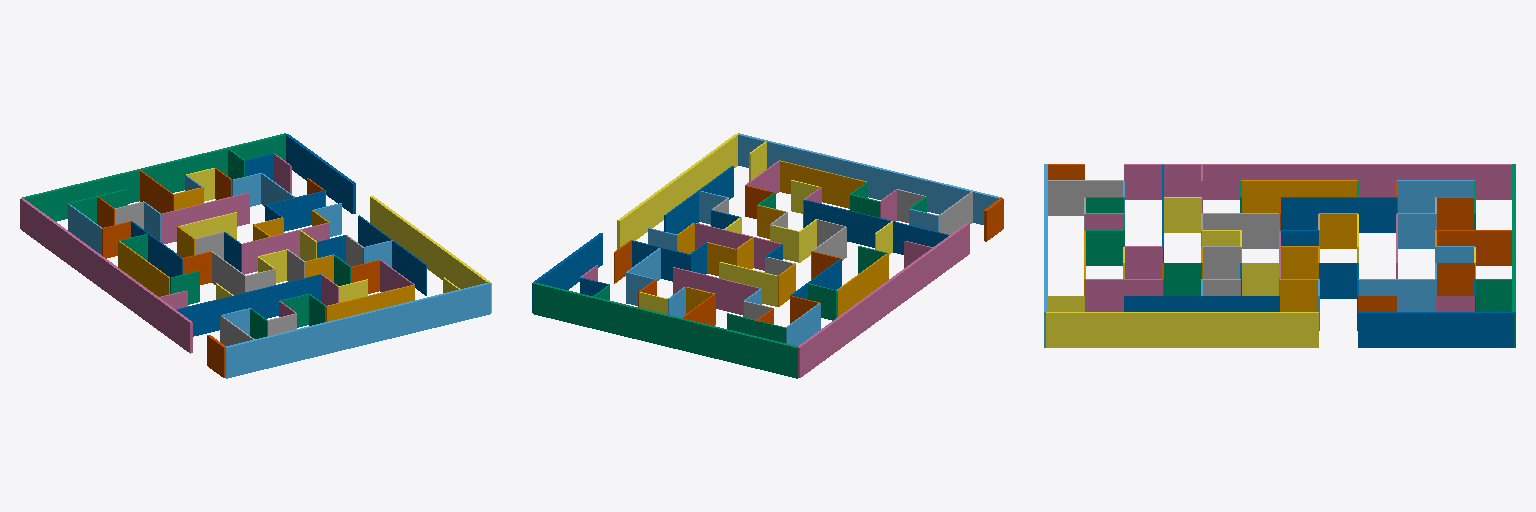
--- Facts derived from the render (not from the file) ---
The picture shows the robot from 3 angles, left to right: view 1: azimuth 30°, elevation 25°; view 2: azimuth 150°, elevation 25°; view 3: azimuth 270°, elevation 25°; orthographic projection.
Model maze2 with 69 links and 68 joints (68 fixed), rooted at maze2_link, posed all joints at 0.
Visible links, largest first — view 1: wallEast_link, wallSouth2_link, wallWest_link, wallNorth1_link, w40_link, wallNorth2_link, w59_link, w50_link, w32_link, w36_link, w4_link, w57_link (+21 smaller); view 2: wallWest_link, wallSouth2_link, wallEast_link, wallNorth1_link, w40_link, w36_link, w59_link, wallNorth2_link, w32_link, w4_link, w50_link, w56_link (+20 smaller); view 3: wallNorth1_link, wallSouth2_link, wallNorth2_link, w8_link, w4_link, w32_link, w11_link, w3_link, w26_link, w29_link, w17_link, w5_link (+26 smaller).
Link boxes in pixels (x1,y1,x2,y2): wallEast_link: (226,282,490,378); wallSouth2_link: (20,198,192,353); wallWest_link: (22,133,285,221); wallNorth1_link: (370,196,491,312); w40_link: (176,274,320,336); wallNorth2_link: (285,134,355,213); w59_link: (161,192,249,243); w50_link: (241,223,329,274); w32_link: (358,215,426,295); w36_link: (326,285,414,321); w4_link: (118,241,169,296); w57_link: (267,190,324,231); wallWest_link: (533,282,797,378); wallSouth2_link: (798,223,969,377); wallEast_link: (738,133,1001,224); wallNorth1_link: (617,134,738,249); w40_link: (804,200,948,254); w36_link: (779,160,866,208); w59_link: (673,267,761,314); wallNorth2_link: (532,233,602,312); w32_link: (664,166,733,233); w4_link: (837,253,888,316); w50_link: (695,223,780,270); w56_link: (719,262,777,306); wallNorth1_link: (1046,312,1318,347); wallSouth2_link: (1124,164,1511,199); wallNorth2_link: (1358,312,1513,347); w8_link: (1280,197,1396,232); w4_link: (1241,180,1357,212); w32_link: (1124,296,1279,311); w11_link: (1202,213,1279,248); w3_link: (1048,180,1123,215); w26_link: (1085,279,1162,311); w29_link: (1358,279,1435,311); w17_link: (1436,230,1513,265); w5_link: (1397,180,1474,212).
Size in the robot's own frame: 9.1 by 12.1 by 1 metres.
Geometry: primitives only (box / cylinder / sphere), no mesh files.

The robot description file, URDF, robot "maze2":
<?xml version="1.0" ?>
<!-- =================================================================================== -->
<!-- |    This document was autogenerated by xacro from /local/dev_hpp/src/iai_maps/build-rel/room/maze2.xacro | -->
<!-- |    EDITING THIS FILE BY HAND IS NOT RECOMMENDED                                 | -->
<!-- =================================================================================== -->
<robot name="maze2" xmlns:controller="http://playerstage.sourceforge.net/gazebo/xmlschema/#controller" xmlns:interface="http://playerstage.sourceforge.net/gazebo/xmlschema/#interface" xmlns:sensor="http://playerstage.sourceforge.net/gazebo/xmlschema/#sensor" xmlns:xacro="http://www.ros.org/wiki/xacro">
  <!-- Little helper macro to define the inertia matrix needed for links. -->
  <!-- Length is along the y-axis. -->
  <!--<macro name="handle" params="name position link clearance">
    <handle name="${name}" clearance="${clearance}">
      <position>${position}</position>
      <link name="${link}" />
    </handle>
  </macro>-->
  <!--  <glasses name="glasses2" parent="room" xyz="-1.1 4.3 0.73" rpy="0 0 0"/>-->
  <link name="maze2_link">
    <!--<sphere_inertia radius="0.001" mass="1"/>-->
  </link>
  <joint name="wallEast_joint" type="fixed">
    <origin rpy="0 0 0" xyz="4.5 0 0.5"/>
    <parent link="maze2_link"/>
    <child link="wallEast_link"/>
  </joint>
  <link name="wallEast_link">
    <visual>
      <origin rpy="0 0 0" xyz="0 0 0"/>
      <geometry>
        <box size="9 0.1 1"/>
      </geometry>
    </visual>
    <collision>
      <origin rpy="0 0 0" xyz="0 0 0"/>
      <geometry>
        <box size="9 0.1 1"/>
      </geometry>
    </collision>
    <inertial>
      <mass value="1000"/>
      <inertia ixx="1.0" ixy="0.0" ixz="0.0" iyy="1.0" iyz="0.0" izz="1.0"/>
    </inertial>
  </link>
  <gazebo reference="wallEast_link">
    <static>true</static>
    <material>Gazebo/White</material>
  </gazebo>
  <joint name="wallWest_joint" type="fixed">
    <origin rpy="0 0 0" xyz="4.5 12 0.5"/>
    <parent link="maze2_link"/>
    <child link="wallWest_link"/>
  </joint>
  <link name="wallWest_link">
    <visual>
      <origin rpy="0 0 0" xyz="0 0 0"/>
      <geometry>
        <box size="9 0.1 1"/>
      </geometry>
    </visual>
    <collision>
      <origin rpy="0 0 0" xyz="0 0 0"/>
      <geometry>
        <box size="9 0.1 1"/>
      </geometry>
    </collision>
    <inertial>
      <mass value="1000"/>
      <inertia ixx="1.0" ixy="0.0" ixz="0.0" iyy="1.0" iyz="0.0" izz="1.0"/>
    </inertial>
  </link>
  <gazebo reference="wallWest_link">
    <static>true</static>
    <material>Gazebo/White</material>
  </gazebo>
  <joint name="wallNorth1_joint" type="fixed">
    <origin rpy="0 0 0" xyz="9 3.5 0.5"/>
    <parent link="maze2_link"/>
    <child link="wallNorth1_link"/>
  </joint>
  <link name="wallNorth1_link">
    <visual>
      <origin rpy="0 0 0" xyz="0 0 0"/>
      <geometry>
        <box size="0.1 7 1"/>
      </geometry>
    </visual>
    <collision>
      <origin rpy="0 0 0" xyz="0 0 0"/>
      <geometry>
        <box size="0.1 7 1"/>
      </geometry>
    </collision>
    <inertial>
      <mass value="1000"/>
      <inertia ixx="1.0" ixy="0.0" ixz="0.0" iyy="1.0" iyz="0.0" izz="1.0"/>
    </inertial>
  </link>
  <gazebo reference="wallNorth1_link">
    <static>true</static>
    <material>Gazebo/White</material>
  </gazebo>
  <joint name="wallNorth2_joint" type="fixed">
    <origin rpy="0 0 0" xyz="9 10 0.5"/>
    <parent link="maze2_link"/>
    <child link="wallNorth2_link"/>
  </joint>
  <link name="wallNorth2_link">
    <visual>
      <origin rpy="0 0 0" xyz="0 0 0"/>
      <geometry>
        <box size="0.1 4 1"/>
      </geometry>
    </visual>
    <collision>
      <origin rpy="0 0 0" xyz="0 0 0"/>
      <geometry>
        <box size="0.1 4 1"/>
      </geometry>
    </collision>
    <inertial>
      <mass value="1000"/>
      <inertia ixx="1.0" ixy="0.0" ixz="0.0" iyy="1.0" iyz="0.0" izz="1.0"/>
    </inertial>
  </link>
  <gazebo reference="wallNorth2_link">
    <static>true</static>
    <material>Gazebo/White</material>
  </gazebo>
  <joint name="wallSouth1_joint" type="fixed">
    <origin rpy="0 0 0" xyz="0 0.5 0.5"/>
    <parent link="maze2_link"/>
    <child link="wallSouth1_link"/>
  </joint>
  <link name="wallSouth1_link">
    <visual>
      <origin rpy="0 0 0" xyz="0 0 0"/>
      <geometry>
        <box size="0.1 1 1"/>
      </geometry>
    </visual>
    <collision>
      <origin rpy="0 0 0" xyz="0 0 0"/>
      <geometry>
        <box size="0.1 1 1"/>
      </geometry>
    </collision>
    <inertial>
      <mass value="1000"/>
      <inertia ixx="1.0" ixy="0.0" ixz="0.0" iyy="1.0" iyz="0.0" izz="1.0"/>
    </inertial>
  </link>
  <gazebo reference="wallSouth1_link">
    <static>true</static>
    <material>Gazebo/White</material>
  </gazebo>
  <joint name="wallSouth2_joint" type="fixed">
    <origin rpy="0 0 0" xyz="0 7 0.5"/>
    <parent link="maze2_link"/>
    <child link="wallSouth2_link"/>
  </joint>
  <link name="wallSouth2_link">
    <visual>
      <origin rpy="0 0 0" xyz="0 0 0"/>
      <geometry>
        <box size="0.1 10 1"/>
      </geometry>
    </visual>
    <collision>
      <origin rpy="0 0 0" xyz="0 0 0"/>
      <geometry>
        <box size="0.1 10 1"/>
      </geometry>
    </collision>
    <inertial>
      <mass value="1000"/>
      <inertia ixx="1.0" ixy="0.0" ixz="0.0" iyy="1.0" iyz="0.0" izz="1.0"/>
    </inertial>
  </link>
  <gazebo reference="wallSouth2_link">
    <static>true</static>
    <material>Gazebo/White</material>
  </gazebo>
  <!-- inside horizontal (south to north, east to west) -->
  <joint name="w3_joint" type="fixed">
    <origin rpy="0 0 0" xyz="1 1 0.5"/>
    <parent link="maze2_link"/>
    <child link="w3_link"/>
  </joint>
  <link name="w3_link">
    <visual>
      <origin rpy="0 0 0" xyz="0 0 0"/>
      <geometry>
        <box size="0.05 2 1"/>
      </geometry>
    </visual>
    <collision>
      <origin rpy="0 0 0" xyz="0 0 0"/>
      <geometry>
        <box size="0.05 2 1"/>
      </geometry>
    </collision>
    <inertial>
      <mass value="1000"/>
      <inertia ixx="1.0" ixy="0.0" ixz="0.0" iyy="1.0" iyz="0.0" izz="1.0"/>
    </inertial>
  </link>
  <gazebo reference="w3_link">
    <static>true</static>
    <material>Gazebo/White</material>
  </gazebo>
  <joint name="w4_joint" type="fixed">
    <origin rpy="0 0 0" xyz="1 6.5 0.5"/>
    <parent link="maze2_link"/>
    <child link="w4_link"/>
  </joint>
  <link name="w4_link">
    <visual>
      <origin rpy="0 0 0" xyz="0 0 0"/>
      <geometry>
        <box size="0.05 3 1"/>
      </geometry>
    </visual>
    <collision>
      <origin rpy="0 0 0" xyz="0 0 0"/>
      <geometry>
        <box size="0.05 3 1"/>
      </geometry>
    </collision>
    <inertial>
      <mass value="1000"/>
      <inertia ixx="1.0" ixy="0.0" ixz="0.0" iyy="1.0" iyz="0.0" izz="1.0"/>
    </inertial>
  </link>
  <gazebo reference="w4_link">
    <static>true</static>
    <material>Gazebo/White</material>
  </gazebo>
  <joint name="w5_joint" type="fixed">
    <origin rpy="0 0 0" xyz="1 10 0.5"/>
    <parent link="maze2_link"/>
    <child link="w5_link"/>
  </joint>
  <link name="w5_link">
    <visual>
      <origin rpy="0 0 0" xyz="0 0 0"/>
      <geometry>
        <box size="0.05 2 1"/>
      </geometry>
    </visual>
    <collision>
      <origin rpy="0 0 0" xyz="0 0 0"/>
      <geometry>
        <box size="0.05 2 1"/>
      </geometry>
    </collision>
    <inertial>
      <mass value="1000"/>
      <inertia ixx="1.0" ixy="0.0" ixz="0.0" iyy="1.0" iyz="0.0" izz="1.0"/>
    </inertial>
  </link>
  <gazebo reference="w5_link">
    <static>true</static>
    <material>Gazebo/White</material>
  </gazebo>
  <joint name="w6_joint" type="fixed">
    <origin rpy="0 0 0" xyz="2 1.5 0.5"/>
    <parent link="maze2_link"/>
    <child link="w6_link"/>
  </joint>
  <link name="w6_link">
    <visual>
      <origin rpy="0 0 0" xyz="0 0 0"/>
      <geometry>
        <box size="0.05 1 1"/>
      </geometry>
    </visual>
    <collision>
      <origin rpy="0 0 0" xyz="0 0 0"/>
      <geometry>
        <box size="0.05 1 1"/>
      </geometry>
    </collision>
    <inertial>
      <mass value="1000"/>
      <inertia ixx="1.0" ixy="0.0" ixz="0.0" iyy="1.0" iyz="0.0" izz="1.0"/>
    </inertial>
  </link>
  <gazebo reference="w6_link">
    <static>true</static>
    <material>Gazebo/White</material>
  </gazebo>
  <joint name="w7_joint" type="fixed">
    <origin rpy="0 0 0" xyz="2 3.5 0.5"/>
    <parent link="maze2_link"/>
    <child link="w7_link"/>
  </joint>
  <link name="w7_link">
    <visual>
      <origin rpy="0 0 0" xyz="0 0 0"/>
      <geometry>
        <box size="0.05 1 1"/>
      </geometry>
    </visual>
    <collision>
      <origin rpy="0 0 0" xyz="0 0 0"/>
      <geometry>
        <box size="0.05 1 1"/>
      </geometry>
    </collision>
    <inertial>
      <mass value="1000"/>
      <inertia ixx="1.0" ixy="0.0" ixz="0.0" iyy="1.0" iyz="0.0" izz="1.0"/>
    </inertial>
  </link>
  <gazebo reference="w7_link">
    <static>true</static>
    <material>Gazebo/White</material>
  </gazebo>
  <joint name="w8_joint" type="fixed">
    <origin rpy="0 0 0" xyz="2 7.5 0.5"/>
    <parent link="maze2_link"/>
    <child link="w8_link"/>
  </joint>
  <link name="w8_link">
    <visual>
      <origin rpy="0 0 0" xyz="0 0 0"/>
      <geometry>
        <box size="0.05 3 1"/>
      </geometry>
    </visual>
    <collision>
      <origin rpy="0 0 0" xyz="0 0 0"/>
      <geometry>
        <box size="0.05 3 1"/>
      </geometry>
    </collision>
    <inertial>
      <mass value="1000"/>
      <inertia ixx="1.0" ixy="0.0" ixz="0.0" iyy="1.0" iyz="0.0" izz="1.0"/>
    </inertial>
  </link>
  <gazebo reference="w8_link">
    <static>true</static>
    <material>Gazebo/White</material>
  </gazebo>
  <joint name="w9_joint" type="fixed">
    <origin rpy="0 0 0" xyz="2 10.5 0.5"/>
    <parent link="maze2_link"/>
    <child link="w9_link"/>
  </joint>
  <link name="w9_link">
    <visual>
      <origin rpy="0 0 0" xyz="0 0 0"/>
      <geometry>
        <box size="0.05 1 1"/>
      </geometry>
    </visual>
    <collision>
      <origin rpy="0 0 0" xyz="0 0 0"/>
      <geometry>
        <box size="0.05 1 1"/>
      </geometry>
    </collision>
    <inertial>
      <mass value="1000"/>
      <inertia ixx="1.0" ixy="0.0" ixz="0.0" iyy="1.0" iyz="0.0" izz="1.0"/>
    </inertial>
  </link>
  <gazebo reference="w9_link">
    <static>true</static>
    <material>Gazebo/White</material>
  </gazebo>
  <joint name="w10_joint" type="fixed">
    <origin rpy="0 0 0" xyz="3 1.5 0.5"/>
    <parent link="maze2_link"/>
    <child link="w10_link"/>
  </joint>
  <link name="w10_link">
    <visual>
      <origin rpy="0 0 0" xyz="0 0 0"/>
      <geometry>
        <box size="0.05 1 1"/>
      </geometry>
    </visual>
    <collision>
      <origin rpy="0 0 0" xyz="0 0 0"/>
      <geometry>
        <box size="0.05 1 1"/>
      </geometry>
    </collision>
    <inertial>
      <mass value="1000"/>
      <inertia ixx="1.0" ixy="0.0" ixz="0.0" iyy="1.0" iyz="0.0" izz="1.0"/>
    </inertial>
  </link>
  <gazebo reference="w10_link">
    <static>true</static>
    <material>Gazebo/White</material>
  </gazebo>
  <joint name="w11_joint" type="fixed">
    <origin rpy="0 0 0" xyz="3 5 0.5"/>
    <parent link="maze2_link"/>
    <child link="w11_link"/>
  </joint>
  <link name="w11_link">
    <visual>
      <origin rpy="0 0 0" xyz="0 0 0"/>
      <geometry>
        <box size="0.05 2 1"/>
      </geometry>
    </visual>
    <collision>
      <origin rpy="0 0 0" xyz="0 0 0"/>
      <geometry>
        <box size="0.05 2 1"/>
      </geometry>
    </collision>
    <inertial>
      <mass value="1000"/>
      <inertia ixx="1.0" ixy="0.0" ixz="0.0" iyy="1.0" iyz="0.0" izz="1.0"/>
    </inertial>
  </link>
  <gazebo reference="w11_link">
    <static>true</static>
    <material>Gazebo/White</material>
  </gazebo>
  <joint name="w12_joint" type="fixed">
    <origin rpy="0 0 0" xyz="3 7.5 0.5"/>
    <parent link="maze2_link"/>
    <child link="w12_link"/>
  </joint>
  <link name="w12_link">
    <visual>
      <origin rpy="0 0 0" xyz="0 0 0"/>
      <geometry>
        <box size="0.05 1 1"/>
      </geometry>
    </visual>
    <collision>
      <origin rpy="0 0 0" xyz="0 0 0"/>
      <geometry>
        <box size="0.05 1 1"/>
      </geometry>
    </collision>
    <inertial>
      <mass value="1000"/>
      <inertia ixx="1.0" ixy="0.0" ixz="0.0" iyy="1.0" iyz="0.0" izz="1.0"/>
    </inertial>
  </link>
  <gazebo reference="w12_link">
    <static>true</static>
    <material>Gazebo/White</material>
  </gazebo>
  <joint name="w13_joint" type="fixed">
    <origin rpy="0 0 0" xyz="3 9.5 0.5"/>
    <parent link="maze2_link"/>
    <child link="w13_link"/>
  </joint>
  <link name="w13_link">
    <visual>
      <origin rpy="0 0 0" xyz="0 0 0"/>
      <geometry>
        <box size="0.05 1 1"/>
      </geometry>
    </visual>
    <collision>
      <origin rpy="0 0 0" xyz="0 0 0"/>
      <geometry>
        <box size="0.05 1 1"/>
      </geometry>
    </collision>
    <inertial>
      <mass value="1000"/>
      <inertia ixx="1.0" ixy="0.0" ixz="0.0" iyy="1.0" iyz="0.0" izz="1.0"/>
    </inertial>
  </link>
  <gazebo reference="w13_link">
    <static>true</static>
    <material>Gazebo/White</material>
  </gazebo>
  <joint name="w14_joint" type="fixed">
    <origin rpy="0 0 0" xyz="4 1.5 0.5"/>
    <parent link="maze2_link"/>
    <child link="w14_link"/>
  </joint>
  <link name="w14_link">
    <visual>
      <origin rpy="0 0 0" xyz="0 0 0"/>
      <geometry>
        <box size="0.05 1 1"/>
      </geometry>
    </visual>
    <collision>
      <origin rpy="0 0 0" xyz="0 0 0"/>
      <geometry>
        <box size="0.05 1 1"/>
      </geometry>
    </collision>
    <inertial>
      <mass value="1000"/>
      <inertia ixx="1.0" ixy="0.0" ixz="0.0" iyy="1.0" iyz="0.0" izz="1.0"/>
    </inertial>
  </link>
  <gazebo reference="w14_link">
    <static>true</static>
    <material>Gazebo/White</material>
  </gazebo>
  <joint name="w15_joint" type="fixed">
    <origin rpy="0 0 0" xyz="4 4.5 0.5"/>
    <parent link="maze2_link"/>
    <child link="w15_link"/>
  </joint>
  <link name="w15_link">
    <visual>
      <origin rpy="0 0 0" xyz="0 0 0"/>
      <geometry>
        <box size="0.05 1 1"/>
      </geometry>
    </visual>
    <collision>
      <origin rpy="0 0 0" xyz="0 0 0"/>
      <geometry>
        <box size="0.05 1 1"/>
      </geometry>
    </collision>
    <inertial>
      <mass value="1000"/>
      <inertia ixx="1.0" ixy="0.0" ixz="0.0" iyy="1.0" iyz="0.0" izz="1.0"/>
    </inertial>
  </link>
  <gazebo reference="w15_link">
    <static>true</static>
    <material>Gazebo/White</material>
  </gazebo>
  <joint name="w16_joint" type="fixed">
    <origin rpy="0 0 0" xyz="4 6.5 0.5"/>
    <parent link="maze2_link"/>
    <child link="w16_link"/>
  </joint>
  <link name="w16_link">
    <visual>
      <origin rpy="0 0 0" xyz="0 0 0"/>
      <geometry>
        <box size="0.05 1 1"/>
      </geometry>
    </visual>
    <collision>
      <origin rpy="0 0 0" xyz="0 0 0"/>
      <geometry>
        <box size="0.05 1 1"/>
      </geometry>
    </collision>
    <inertial>
      <mass value="1000"/>
      <inertia ixx="1.0" ixy="0.0" ixz="0.0" iyy="1.0" iyz="0.0" izz="1.0"/>
    </inertial>
  </link>
  <gazebo reference="w16_link">
    <static>true</static>
    <material>Gazebo/White</material>
  </gazebo>
  <joint name="w17_joint" type="fixed">
    <origin rpy="0 0 0" xyz="4 11 0.5"/>
    <parent link="maze2_link"/>
    <child link="w17_link"/>
  </joint>
  <link name="w17_link">
    <visual>
      <origin rpy="0 0 0" xyz="0 0 0"/>
      <geometry>
        <box size="0.05 2 1"/>
      </geometry>
    </visual>
    <collision>
      <origin rpy="0 0 0" xyz="0 0 0"/>
      <geometry>
        <box size="0.05 2 1"/>
      </geometry>
    </collision>
    <inertial>
      <mass value="1000"/>
      <inertia ixx="1.0" ixy="0.0" ixz="0.0" iyy="1.0" iyz="0.0" izz="1.0"/>
    </inertial>
  </link>
  <gazebo reference="w17_link">
    <static>true</static>
    <material>Gazebo/White</material>
  </gazebo>
  <joint name="w18_joint" type="fixed">
    <origin rpy="0 0 0" xyz="5 2.5 0.5"/>
    <parent link="maze2_link"/>
    <child link="w18_link"/>
  </joint>
  <link name="w18_link">
    <visual>
      <origin rpy="0 0 0" xyz="0 0 0"/>
      <geometry>
        <box size="0.05 1 1"/>
      </geometry>
    </visual>
    <collision>
      <origin rpy="0 0 0" xyz="0 0 0"/>
      <geometry>
        <box size="0.05 1 1"/>
      </geometry>
    </collision>
    <inertial>
      <mass value="1000"/>
      <inertia ixx="1.0" ixy="0.0" ixz="0.0" iyy="1.0" iyz="0.0" izz="1.0"/>
    </inertial>
  </link>
  <gazebo reference="w18_link">
    <static>true</static>
    <material>Gazebo/White</material>
  </gazebo>
  <joint name="w19_joint" type="fixed">
    <origin rpy="0 0 0" xyz="5 4.5 0.5"/>
    <parent link="maze2_link"/>
    <child link="w19_link"/>
  </joint>
  <link name="w19_link">
    <visual>
      <origin rpy="0 0 0" xyz="0 0 0"/>
      <geometry>
        <box size="0.05 1 1"/>
      </geometry>
    </visual>
    <collision>
      <origin rpy="0 0 0" xyz="0 0 0"/>
      <geometry>
        <box size="0.05 1 1"/>
      </geometry>
    </collision>
    <inertial>
      <mass value="1000"/>
      <inertia ixx="1.0" ixy="0.0" ixz="0.0" iyy="1.0" iyz="0.0" izz="1.0"/>
    </inertial>
  </link>
  <gazebo reference="w19_link">
    <static>true</static>
    <material>Gazebo/White</material>
  </gazebo>
  <joint name="w20_joint" type="fixed">
    <origin rpy="0 0 0" xyz="5 6.5 0.5"/>
    <parent link="maze2_link"/>
    <child link="w20_link"/>
  </joint>
  <link name="w20_link">
    <visual>
      <origin rpy="0 0 0" xyz="0 0 0"/>
      <geometry>
        <box size="0.05 1 1"/>
      </geometry>
    </visual>
    <collision>
      <origin rpy="0 0 0" xyz="0 0 0"/>
      <geometry>
        <box size="0.05 1 1"/>
      </geometry>
    </collision>
    <inertial>
      <mass value="1000"/>
      <inertia ixx="1.0" ixy="0.0" ixz="0.0" iyy="1.0" iyz="0.0" izz="1.0"/>
    </inertial>
  </link>
  <gazebo reference="w20_link">
    <static>true</static>
    <material>Gazebo/White</material>
  </gazebo>
  <joint name="w21_joint" type="fixed">
    <origin rpy="0 0 0" xyz="5 10.5 0.5"/>
    <parent link="maze2_link"/>
    <child link="w21_link"/>
  </joint>
  <link name="w21_link">
    <visual>
      <origin rpy="0 0 0" xyz="0 0 0"/>
      <geometry>
        <box size="0.05 1 1"/>
      </geometry>
    </visual>
    <collision>
      <origin rpy="0 0 0" xyz="0 0 0"/>
      <geometry>
        <box size="0.05 1 1"/>
      </geometry>
    </collision>
    <inertial>
      <mass value="1000"/>
      <inertia ixx="1.0" ixy="0.0" ixz="0.0" iyy="1.0" iyz="0.0" izz="1.0"/>
    </inertial>
  </link>
  <gazebo reference="w21_link">
    <static>true</static>
    <material>Gazebo/White</material>
  </gazebo>
  <joint name="w22_joint" type="fixed">
    <origin rpy="0 0 0" xyz="6 3.5 0.5"/>
    <parent link="maze2_link"/>
    <child link="w22_link"/>
  </joint>
  <link name="w22_link">
    <visual>
      <origin rpy="0 0 0" xyz="0 0 0"/>
      <geometry>
        <box size="0.05 1 1"/>
      </geometry>
    </visual>
    <collision>
      <origin rpy="0 0 0" xyz="0 0 0"/>
      <geometry>
        <box size="0.05 1 1"/>
      </geometry>
    </collision>
    <inertial>
      <mass value="1000"/>
      <inertia ixx="1.0" ixy="0.0" ixz="0.0" iyy="1.0" iyz="0.0" izz="1.0"/>
    </inertial>
  </link>
  <gazebo reference="w22_link">
    <static>true</static>
    <material>Gazebo/White</material>
  </gazebo>
  <joint name="w23_joint" type="fixed">
    <origin rpy="0 0 0" xyz="6 5.5 0.5"/>
    <parent link="maze2_link"/>
    <child link="w23_link"/>
  </joint>
  <link name="w23_link">
    <visual>
      <origin rpy="0 0 0" xyz="0 0 0"/>
      <geometry>
        <box size="0.05 1 1"/>
      </geometry>
    </visual>
    <collision>
      <origin rpy="0 0 0" xyz="0 0 0"/>
      <geometry>
        <box size="0.05 1 1"/>
      </geometry>
    </collision>
    <inertial>
      <mass value="1000"/>
      <inertia ixx="1.0" ixy="0.0" ixz="0.0" iyy="1.0" iyz="0.0" izz="1.0"/>
    </inertial>
  </link>
  <gazebo reference="w23_link">
    <static>true</static>
    <material>Gazebo/White</material>
  </gazebo>
  <joint name="w24_joint" type="fixed">
    <origin rpy="0 0 0" xyz="6 7.5 0.5"/>
    <parent link="maze2_link"/>
    <child link="w24_link"/>
  </joint>
  <link name="w24_link">
    <visual>
      <origin rpy="0 0 0" xyz="0 0 0"/>
      <geometry>
        <box size="0.05 1 1"/>
      </geometry>
    </visual>
    <collision>
      <origin rpy="0 0 0" xyz="0 0 0"/>
      <geometry>
        <box size="0.05 1 1"/>
      </geometry>
    </collision>
    <inertial>
      <mass value="1000"/>
      <inertia ixx="1.0" ixy="0.0" ixz="0.0" iyy="1.0" iyz="0.0" izz="1.0"/>
    </inertial>
  </link>
  <gazebo reference="w24_link">
    <static>true</static>
    <material>Gazebo/White</material>
  </gazebo>
  <joint name="w25_joint" type="fixed">
    <origin rpy="0 0 0" xyz="6 10.5 0.5"/>
    <parent link="maze2_link"/>
    <child link="w25_link"/>
  </joint>
  <link name="w25_link">
    <visual>
      <origin rpy="0 0 0" xyz="0 0 0"/>
      <geometry>
        <box size="0.05 1 1"/>
      </geometry>
    </visual>
    <collision>
      <origin rpy="0 0 0" xyz="0 0 0"/>
      <geometry>
        <box size="0.05 1 1"/>
      </geometry>
    </collision>
    <inertial>
      <mass value="1000"/>
      <inertia ixx="1.0" ixy="0.0" ixz="0.0" iyy="1.0" iyz="0.0" izz="1.0"/>
    </inertial>
  </link>
  <gazebo reference="w25_link">
    <static>true</static>
    <material>Gazebo/White</material>
  </gazebo>
  <joint name="w26_joint" type="fixed">
    <origin rpy="0 0 0" xyz="7 2 0.5"/>
    <parent link="maze2_link"/>
    <child link="w26_link"/>
  </joint>
  <link name="w26_link">
    <visual>
      <origin rpy="0 0 0" xyz="0 0 0"/>
      <geometry>
        <box size="0.05 2 1"/>
      </geometry>
    </visual>
    <collision>
      <origin rpy="0 0 0" xyz="0 0 0"/>
      <geometry>
        <box size="0.05 2 1"/>
      </geometry>
    </collision>
    <inertial>
      <mass value="1000"/>
      <inertia ixx="1.0" ixy="0.0" ixz="0.0" iyy="1.0" iyz="0.0" izz="1.0"/>
    </inertial>
  </link>
  <gazebo reference="w26_link">
    <static>true</static>
    <material>Gazebo/White</material>
  </gazebo>
  <joint name="w27_joint" type="fixed">
    <origin rpy="0 0 0" xyz="7 4.5 0.5"/>
    <parent link="maze2_link"/>
    <child link="w27_link"/>
  </joint>
  <link name="w27_link">
    <visual>
      <origin rpy="0 0 0" xyz="0 0 0"/>
      <geometry>
        <box size="0.05 1 1"/>
      </geometry>
    </visual>
    <collision>
      <origin rpy="0 0 0" xyz="0 0 0"/>
      <geometry>
        <box size="0.05 1 1"/>
      </geometry>
    </collision>
    <inertial>
      <mass value="1000"/>
      <inertia ixx="1.0" ixy="0.0" ixz="0.0" iyy="1.0" iyz="0.0" izz="1.0"/>
    </inertial>
  </link>
  <gazebo reference="w27_link">
    <static>true</static>
    <material>Gazebo/White</material>
  </gazebo>
  <joint name="w28_joint" type="fixed">
    <origin rpy="0 0 0" xyz="7 6.5 0.5"/>
    <parent link="maze2_link"/>
    <child link="w28_link"/>
  </joint>
  <link name="w28_link">
    <visual>
      <origin rpy="0 0 0" xyz="0 0 0"/>
      <geometry>
        <box size="0.05 1 1"/>
      </geometry>
    </visual>
    <collision>
      <origin rpy="0 0 0" xyz="0 0 0"/>
      <geometry>
        <box size="0.05 1 1"/>
      </geometry>
    </collision>
    <inertial>
      <mass value="1000"/>
      <inertia ixx="1.0" ixy="0.0" ixz="0.0" iyy="1.0" iyz="0.0" izz="1.0"/>
    </inertial>
  </link>
  <gazebo reference="w28_link">
    <static>true</static>
    <material>Gazebo/White</material>
  </gazebo>
  <joint name="w29_joint" type="fixed">
    <origin rpy="0 0 0" xyz="7 9 0.5"/>
    <parent link="maze2_link"/>
    <child link="w29_link"/>
  </joint>
  <link name="w29_link">
    <visual>
      <origin rpy="0 0 0" xyz="0 0 0"/>
      <geometry>
        <box size="0.05 2 1"/>
      </geometry>
    </visual>
    <collision>
      <origin rpy="0 0 0" xyz="0 0 0"/>
      <geometry>
        <box size="0.05 2 1"/>
      </geometry>
    </collision>
    <inertial>
      <mass value="1000"/>
      <inertia ixx="1.0" ixy="0.0" ixz="0.0" iyy="1.0" iyz="0.0" izz="1.0"/>
    </inertial>
  </link>
  <gazebo reference="w29_link">
    <static>true</static>
    <material>Gazebo/White</material>
  </gazebo>
  <joint name="w30_joint" type="fixed">
    <origin rpy="0 0 0" xyz="7 11.5 0.5"/>
    <parent link="maze2_link"/>
    <child link="w30_link"/>
  </joint>
  <link name="w30_link">
    <visual>
      <origin rpy="0 0 0" xyz="0 0 0"/>
      <geometry>
        <box size="0.05 1 1"/>
      </geometry>
    </visual>
    <collision>
      <origin rpy="0 0 0" xyz="0 0 0"/>
      <geometry>
        <box size="0.05 1 1"/>
      </geometry>
    </collision>
    <inertial>
      <mass value="1000"/>
      <inertia ixx="1.0" ixy="0.0" ixz="0.0" iyy="1.0" iyz="0.0" izz="1.0"/>
    </inertial>
  </link>
  <gazebo reference="w30_link">
    <static>true</static>
    <material>Gazebo/White</material>
  </gazebo>
  <joint name="w31_joint" type="fixed">
    <origin rpy="0 0 0" xyz="8 0.5 0.5"/>
    <parent link="maze2_link"/>
    <child link="w31_link"/>
  </joint>
  <link name="w31_link">
    <visual>
      <origin rpy="0 0 0" xyz="0 0 0"/>
      <geometry>
        <box size="0.05 1 1"/>
      </geometry>
    </visual>
    <collision>
      <origin rpy="0 0 0" xyz="0 0 0"/>
      <geometry>
        <box size="0.05 1 1"/>
      </geometry>
    </collision>
    <inertial>
      <mass value="1000"/>
      <inertia ixx="1.0" ixy="0.0" ixz="0.0" iyy="1.0" iyz="0.0" izz="1.0"/>
    </inertial>
  </link>
  <gazebo reference="w31_link">
    <static>true</static>
    <material>Gazebo/White</material>
  </gazebo>
  <joint name="w32_joint" type="fixed">
    <origin rpy="0 0 0" xyz="8 4 0.5"/>
    <parent link="maze2_link"/>
    <child link="w32_link"/>
  </joint>
  <link name="w32_link">
    <visual>
      <origin rpy="0 0 0" xyz="0 0 0"/>
      <geometry>
        <box size="0.05 4 1"/>
      </geometry>
    </visual>
    <collision>
      <origin rpy="0 0 0" xyz="0 0 0"/>
      <geometry>
        <box size="0.05 4 1"/>
      </geometry>
    </collision>
    <inertial>
      <mass value="1000"/>
      <inertia ixx="1.0" ixy="0.0" ixz="0.0" iyy="1.0" iyz="0.0" izz="1.0"/>
    </inertial>
  </link>
  <gazebo reference="w32_link">
    <static>true</static>
    <material>Gazebo/White</material>
  </gazebo>
  <joint name="w33_joint" type="fixed">
    <origin rpy="0 0 0" xyz="8 8.5 0.5"/>
    <parent link="maze2_link"/>
    <child link="w33_link"/>
  </joint>
  <link name="w33_link">
    <visual>
      <origin rpy="0 0 0" xyz="0 0 0"/>
      <geometry>
        <box size="0.05 1 1"/>
      </geometry>
    </visual>
    <collision>
      <origin rpy="0 0 0" xyz="0 0 0"/>
      <geometry>
        <box size="0.05 1 1"/>
      </geometry>
    </collision>
    <inertial>
      <mass value="1000"/>
      <inertia ixx="1.0" ixy="0.0" ixz="0.0" iyy="1.0" iyz="0.0" izz="1.0"/>
    </inertial>
  </link>
  <gazebo reference="w33_link">
    <static>true</static>
    <material>Gazebo/White</material>
  </gazebo>
  <joint name="w34_joint" type="fixed">
    <origin rpy="0 0 0" xyz="8 10.5 0.5"/>
    <parent link="maze2_link"/>
    <child link="w34_link"/>
  </joint>
  <link name="w34_link">
    <visual>
      <origin rpy="0 0 0" xyz="0 0 0"/>
      <geometry>
        <box size="0.05 1 1"/>
      </geometry>
    </visual>
    <collision>
      <origin rpy="0 0 0" xyz="0 0 0"/>
      <geometry>
        <box size="0.05 1 1"/>
      </geometry>
    </collision>
    <inertial>
      <mass value="1000"/>
      <inertia ixx="1.0" ixy="0.0" ixz="0.0" iyy="1.0" iyz="0.0" izz="1.0"/>
    </inertial>
  </link>
  <gazebo reference="w34_link">
    <static>true</static>
    <material>Gazebo/White</material>
  </gazebo>
  <joint name="w35_joint" type="fixed">
    <origin rpy="0 0 0" xyz="2.5 1 0.5"/>
    <parent link="maze2_link"/>
    <child link="w35_link"/>
  </joint>
  <link name="w35_link">
    <visual>
      <origin rpy="0 0 0" xyz="0 0 0"/>
      <geometry>
        <box size="1 0.05 1"/>
      </geometry>
    </visual>
    <collision>
      <origin rpy="0 0 0" xyz="0 0 0"/>
      <geometry>
        <box size="1 0.05 1"/>
      </geometry>
    </collision>
    <inertial>
      <mass value="1000"/>
      <inertia ixx="1.0" ixy="0.0" ixz="0.0" iyy="1.0" iyz="0.0" izz="1.0"/>
    </inertial>
  </link>
  <gazebo reference="w35_link">
    <static>true</static>
    <material>Gazebo/White</material>
  </gazebo>
  <joint name="w36_joint" type="fixed">
    <origin rpy="0 0 0" xyz="5.5 1 0.5"/>
    <parent link="maze2_link"/>
    <child link="w36_link"/>
  </joint>
  <link name="w36_link">
    <visual>
      <origin rpy="0 0 0" xyz="0 0 0"/>
      <geometry>
        <box size="3 0.05 1"/>
      </geometry>
    </visual>
    <collision>
      <origin rpy="0 0 0" xyz="0 0 0"/>
      <geometry>
        <box size="3 0.05 1"/>
      </geometry>
    </collision>
    <inertial>
      <mass value="1000"/>
      <inertia ixx="1.0" ixy="0.0" ixz="0.0" iyy="1.0" iyz="0.0" izz="1.0"/>
    </inertial>
  </link>
  <gazebo reference="w36_link">
    <static>true</static>
    <material>Gazebo/White</material>
  </gazebo>
  <joint name="w37_joint" type="fixed">
    <origin rpy="0 0 0" xyz="1.5 2 0.5"/>
    <parent link="maze2_link"/>
    <child link="w37_link"/>
  </joint>
  <link name="w37_link">
    <visual>
      <origin rpy="0 0 0" xyz="0 0 0"/>
      <geometry>
        <box size="1 0.05 1"/>
      </geometry>
    </visual>
    <collision>
      <origin rpy="0 0 0" xyz="0 0 0"/>
      <geometry>
        <box size="1 0.05 1"/>
      </geometry>
    </collision>
    <inertial>
      <mass value="1000"/>
      <inertia ixx="1.0" ixy="0.0" ixz="0.0" iyy="1.0" iyz="0.0" izz="1.0"/>
    </inertial>
  </link>
  <gazebo reference="w37_link">
    <static>true</static>
    <material>Gazebo/White</material>
  </gazebo>
  <joint name="w38_joint" type="fixed">
    <origin rpy="0 0 0" xyz="3.5 2 0.5"/>
    <parent link="maze2_link"/>
    <child link="w38_link"/>
  </joint>
  <link name="w38_link">
    <visual>
      <origin rpy="0 0 0" xyz="0 0 0"/>
      <geometry>
        <box size="1 0.05 1"/>
      </geometry>
    </visual>
    <collision>
      <origin rpy="0 0 0" xyz="0 0 0"/>
      <geometry>
        <box size="1 0.05 1"/>
      </geometry>
    </collision>
    <inertial>
      <mass value="1000"/>
      <inertia ixx="1.0" ixy="0.0" ixz="0.0" iyy="1.0" iyz="0.0" izz="1.0"/>
    </inertial>
  </link>
  <gazebo reference="w38_link">
    <static>true</static>
    <material>Gazebo/White</material>
  </gazebo>
  <joint name="w39_joint" type="fixed">
    <origin rpy="0 0 0" xyz="5.5 2 0.5"/>
    <parent link="maze2_link"/>
    <child link="w39_link"/>
  </joint>
  <link name="w39_link">
    <visual>
      <origin rpy="0 0 0" xyz="0 0 0"/>
      <geometry>
        <box size="1 0.05 1"/>
      </geometry>
    </visual>
    <collision>
      <origin rpy="0 0 0" xyz="0 0 0"/>
      <geometry>
        <box size="1 0.05 1"/>
      </geometry>
    </collision>
    <inertial>
      <mass value="1000"/>
      <inertia ixx="1.0" ixy="0.0" ixz="0.0" iyy="1.0" iyz="0.0" izz="1.0"/>
    </inertial>
  </link>
  <gazebo reference="w39_link">
    <static>true</static>
    <material>Gazebo/White</material>
  </gazebo>
  <joint name="w40_joint" type="fixed">
    <origin rpy="0 0 0" xyz="2.5 3 0.5"/>
    <parent link="maze2_link"/>
    <child link="w40_link"/>
  </joint>
  <link name="w40_link">
    <visual>
      <origin rpy="0 0 0" xyz="0 0 0"/>
      <geometry>
        <box size="5 0.05 1"/>
      </geometry>
    </visual>
    <collision>
      <origin rpy="0 0 0" xyz="0 0 0"/>
      <geometry>
        <box size="5 0.05 1"/>
      </geometry>
    </collision>
    <inertial>
      <mass value="1000"/>
      <inertia ixx="1.0" ixy="0.0" ixz="0.0" iyy="1.0" iyz="0.0" izz="1.0"/>
    </inertial>
  </link>
  <gazebo reference="w40_link">
    <static>true</static>
    <material>Gazebo/White</material>
  </gazebo>
  <joint name="w41_joint" type="fixed">
    <origin rpy="0 0 0" xyz="6.5 3 0.5"/>
    <parent link="maze2_link"/>
    <child link="w41_link"/>
  </joint>
  <link name="w41_link">
    <visual>
      <origin rpy="0 0 0" xyz="0 0 0"/>
      <geometry>
        <box size="1 0.05 1"/>
      </geometry>
    </visual>
    <collision>
      <origin rpy="0 0 0" xyz="0 0 0"/>
      <geometry>
        <box size="1 0.05 1"/>
      </geometry>
    </collision>
    <inertial>
      <mass value="1000"/>
      <inertia ixx="1.0" ixy="0.0" ixz="0.0" iyy="1.0" iyz="0.0" izz="1.0"/>
    </inertial>
  </link>
  <gazebo reference="w41_link">
    <static>true</static>
    <material>Gazebo/White</material>
  </gazebo>
  <joint name="w42_joint" type="fixed">
    <origin rpy="0 0 0" xyz="0.5 4 0.5"/>
    <parent link="maze2_link"/>
    <child link="w42_link"/>
  </joint>
  <link name="w42_link">
    <visual>
      <origin rpy="0 0 0" xyz="0 0 0"/>
      <geometry>
        <box size="1 0.05 1"/>
      </geometry>
    </visual>
    <collision>
      <origin rpy="0 0 0" xyz="0 0 0"/>
      <geometry>
        <box size="1 0.05 1"/>
      </geometry>
    </collision>
    <inertial>
      <mass value="1000"/>
      <inertia ixx="1.0" ixy="0.0" ixz="0.0" iyy="1.0" iyz="0.0" izz="1.0"/>
    </inertial>
  </link>
  <gazebo reference="w42_link">
    <static>true</static>
    <material>Gazebo/White</material>
  </gazebo>
  <joint name="w43_joint" type="fixed">
    <origin rpy="0 0 0" xyz="3.5 4 0.5"/>
    <parent link="maze2_link"/>
    <child link="w43_link"/>
  </joint>
  <link name="w43_link">
    <visual>
      <origin rpy="0 0 0" xyz="0 0 0"/>
      <geometry>
        <box size="1 0.05 1"/>
      </geometry>
    </visual>
    <collision>
      <origin rpy="0 0 0" xyz="0 0 0"/>
      <geometry>
        <box size="1 0.05 1"/>
      </geometry>
    </collision>
    <inertial>
      <mass value="1000"/>
      <inertia ixx="1.0" ixy="0.0" ixz="0.0" iyy="1.0" iyz="0.0" izz="1.0"/>
    </inertial>
  </link>
  <gazebo reference="w43_link">
    <static>true</static>
    <material>Gazebo/White</material>
  </gazebo>
  <joint name="w44_joint" type="fixed">
    <origin rpy="0 0 0" xyz="5.5 4 0.5"/>
    <parent link="maze2_link"/>
    <child link="w44_link"/>
  </joint>
  <link name="w44_link">
    <visual>
      <origin rpy="0 0 0" xyz="0 0 0"/>
      <geometry>
        <box size="1 0.05 1"/>
      </geometry>
    </visual>
    <collision>
      <origin rpy="0 0 0" xyz="0 0 0"/>
      <geometry>
        <box size="1 0.05 1"/>
      </geometry>
    </collision>
    <inertial>
      <mass value="1000"/>
      <inertia ixx="1.0" ixy="0.0" ixz="0.0" iyy="1.0" iyz="0.0" izz="1.0"/>
    </inertial>
  </link>
  <gazebo reference="w44_link">
    <static>true</static>
    <material>Gazebo/White</material>
  </gazebo>
  <joint name="w45_joint" type="fixed">
    <origin rpy="0 0 0" xyz="7.5 4 0.5"/>
    <parent link="maze2_link"/>
    <child link="w45_link"/>
  </joint>
  <link name="w45_link">
    <visual>
      <origin rpy="0 0 0" xyz="0 0 0"/>
      <geometry>
        <box size="1 0.05 1"/>
      </geometry>
    </visual>
    <collision>
      <origin rpy="0 0 0" xyz="0 0 0"/>
      <geometry>
        <box size="1 0.05 1"/>
      </geometry>
    </collision>
    <inertial>
      <mass value="1000"/>
      <inertia ixx="1.0" ixy="0.0" ixz="0.0" iyy="1.0" iyz="0.0" izz="1.0"/>
    </inertial>
  </link>
  <gazebo reference="w45_link">
    <static>true</static>
    <material>Gazebo/White</material>
  </gazebo>
  <joint name="w46_joint" type="fixed">
    <origin rpy="0 0 0" xyz="1.5 5 0.5"/>
    <parent link="maze2_link"/>
    <child link="w46_link"/>
  </joint>
  <link name="w46_link">
    <visual>
      <origin rpy="0 0 0" xyz="0 0 0"/>
      <geometry>
        <box size="1 0.05 1"/>
      </geometry>
    </visual>
    <collision>
      <origin rpy="0 0 0" xyz="0 0 0"/>
      <geometry>
        <box size="1 0.05 1"/>
      </geometry>
    </collision>
    <inertial>
      <mass value="1000"/>
      <inertia ixx="1.0" ixy="0.0" ixz="0.0" iyy="1.0" iyz="0.0" izz="1.0"/>
    </inertial>
  </link>
  <gazebo reference="w46_link">
    <static>true</static>
    <material>Gazebo/White</material>
  </gazebo>
  <joint name="w47_joint" type="fixed">
    <origin rpy="0 0 0" xyz="4.5 5 0.5"/>
    <parent link="maze2_link"/>
    <child link="w47_link"/>
  </joint>
  <link name="w47_link">
    <visual>
      <origin rpy="0 0 0" xyz="0 0 0"/>
      <geometry>
        <box size="1 0.05 1"/>
      </geometry>
    </visual>
    <collision>
      <origin rpy="0 0 0" xyz="0 0 0"/>
      <geometry>
        <box size="1 0.05 1"/>
      </geometry>
    </collision>
    <inertial>
      <mass value="1000"/>
      <inertia ixx="1.0" ixy="0.0" ixz="0.0" iyy="1.0" iyz="0.0" izz="1.0"/>
    </inertial>
  </link>
  <gazebo reference="w47_link">
    <static>true</static>
    <material>Gazebo/White</material>
  </gazebo>
  <joint name="w48_joint" type="fixed">
    <origin rpy="0 0 0" xyz="6.5 5 0.5"/>
    <parent link="maze2_link"/>
    <child link="w48_link"/>
  </joint>
  <link name="w48_link">
    <visual>
      <origin rpy="0 0 0" xyz="0 0 0"/>
      <geometry>
        <box size="1 0.05 1"/>
      </geometry>
    </visual>
    <collision>
      <origin rpy="0 0 0" xyz="0 0 0"/>
      <geometry>
        <box size="1 0.05 1"/>
      </geometry>
    </collision>
    <inertial>
      <mass value="1000"/>
      <inertia ixx="1.0" ixy="0.0" ixz="0.0" iyy="1.0" iyz="0.0" izz="1.0"/>
    </inertial>
  </link>
  <gazebo reference="w48_link">
    <static>true</static>
    <material>Gazebo/White</material>
  </gazebo>
  <joint name="w49_joint" type="fixed">
    <origin rpy="0 0 0" xyz="2.5 6 0.5"/>
    <parent link="maze2_link"/>
    <child link="w49_link"/>
  </joint>
  <link name="w49_link">
    <visual>
      <origin rpy="0 0 0" xyz="0 0 0"/>
      <geometry>
        <box size="1 0.05 1"/>
      </geometry>
    </visual>
    <collision>
      <origin rpy="0 0 0" xyz="0 0 0"/>
      <geometry>
        <box size="1 0.05 1"/>
      </geometry>
    </collision>
    <inertial>
      <mass value="1000"/>
      <inertia ixx="1.0" ixy="0.0" ixz="0.0" iyy="1.0" iyz="0.0" izz="1.0"/>
    </inertial>
  </link>
  <gazebo reference="w49_link">
    <static>true</static>
    <material>Gazebo/White</material>
  </gazebo>
  <joint name="w50_joint" type="fixed">
    <origin rpy="0 0 0" xyz="5.5 6 0.5"/>
    <parent link="maze2_link"/>
    <child link="w50_link"/>
  </joint>
  <link name="w50_link">
    <visual>
      <origin rpy="0 0 0" xyz="0 0 0"/>
      <geometry>
        <box size="3 0.05 1"/>
      </geometry>
    </visual>
    <collision>
      <origin rpy="0 0 0" xyz="0 0 0"/>
      <geometry>
        <box size="3 0.05 1"/>
      </geometry>
    </collision>
    <inertial>
      <mass value="1000"/>
      <inertia ixx="1.0" ixy="0.0" ixz="0.0" iyy="1.0" iyz="0.0" izz="1.0"/>
    </inertial>
  </link>
  <gazebo reference="w50_link">
    <static>true</static>
    <material>Gazebo/White</material>
  </gazebo>
  <joint name="w52_joint" type="fixed">
    <origin rpy="0 0 0" xyz="3.5 7 0.5"/>
    <parent link="maze2_link"/>
    <child link="w52_link"/>
  </joint>
  <link name="w52_link">
    <visual>
      <origin rpy="0 0 0" xyz="0 0 0"/>
      <geometry>
        <box size="1 0.05 1"/>
      </geometry>
    </visual>
    <collision>
      <origin rpy="0 0 0" xyz="0 0 0"/>
      <geometry>
        <box size="1 0.05 1"/>
      </geometry>
    </collision>
    <inertial>
      <mass value="1000"/>
      <inertia ixx="1.0" ixy="0.0" ixz="0.0" iyy="1.0" iyz="0.0" izz="1.0"/>
    </inertial>
  </link>
  <gazebo reference="w52_link">
    <static>true</static>
    <material>Gazebo/White</material>
  </gazebo>
  <joint name="w53_joint" type="fixed">
    <origin rpy="0 0 0" xyz="5.5 7 0.5"/>
    <parent link="maze2_link"/>
    <child link="w53_link"/>
  </joint>
  <link name="w53_link">
    <visual>
      <origin rpy="0 0 0" xyz="0 0 0"/>
      <geometry>
        <box size="1 0.05 1"/>
      </geometry>
    </visual>
    <collision>
      <origin rpy="0 0 0" xyz="0 0 0"/>
      <geometry>
        <box size="1 0.05 1"/>
      </geometry>
    </collision>
    <inertial>
      <mass value="1000"/>
      <inertia ixx="1.0" ixy="0.0" ixz="0.0" iyy="1.0" iyz="0.0" izz="1.0"/>
    </inertial>
  </link>
  <gazebo reference="w53_link">
    <static>true</static>
    <material>Gazebo/White</material>
  </gazebo>
  <joint name="w54_joint" type="fixed">
    <origin rpy="0 0 0" xyz="7.5 7 0.5"/>
    <parent link="maze2_link"/>
    <child link="w54_link"/>
  </joint>
  <link name="w54_link">
    <visual>
      <origin rpy="0 0 0" xyz="0 0 0"/>
      <geometry>
        <box size="1 0.05 1"/>
      </geometry>
    </visual>
    <collision>
      <origin rpy="0 0 0" xyz="0 0 0"/>
      <geometry>
        <box size="1 0.05 1"/>
      </geometry>
    </collision>
    <inertial>
      <mass value="1000"/>
      <inertia ixx="1.0" ixy="0.0" ixz="0.0" iyy="1.0" iyz="0.0" izz="1.0"/>
    </inertial>
  </link>
  <gazebo reference="w54_link">
    <static>true</static>
    <material>Gazebo/White</material>
  </gazebo>
  <joint name="w55_joint" type="fixed">
    <origin rpy="0 0 0" xyz="1.5 8 0.5"/>
    <parent link="maze2_link"/>
    <child link="w55_link"/>
  </joint>
  <link name="w55_link">
    <visual>
      <origin rpy="0 0 0" xyz="0 0 0"/>
      <geometry>
        <box size="1 0.05 1"/>
      </geometry>
    </visual>
    <collision>
      <origin rpy="0 0 0" xyz="0 0 0"/>
      <geometry>
        <box size="1 0.05 1"/>
      </geometry>
    </collision>
    <inertial>
      <mass value="1000"/>
      <inertia ixx="1.0" ixy="0.0" ixz="0.0" iyy="1.0" iyz="0.0" izz="1.0"/>
    </inertial>
  </link>
  <gazebo reference="w55_link">
    <static>true</static>
    <material>Gazebo/White</material>
  </gazebo>
  <joint name="w56_joint" type="fixed">
    <origin rpy="0 0 0" xyz="4 8 0.5"/>
    <parent link="maze2_link"/>
    <child link="w56_link"/>
  </joint>
  <link name="w56_link">
    <visual>
      <origin rpy="0 0 0" xyz="0 0 0"/>
      <geometry>
        <box size="2 0.05 1"/>
      </geometry>
    </visual>
    <collision>
      <origin rpy="0 0 0" xyz="0 0 0"/>
      <geometry>
        <box size="2 0.05 1"/>
      </geometry>
    </collision>
    <inertial>
      <mass value="1000"/>
      <inertia ixx="1.0" ixy="0.0" ixz="0.0" iyy="1.0" iyz="0.0" izz="1.0"/>
    </inertial>
  </link>
  <gazebo reference="w56_link">
    <static>true</static>
    <material>Gazebo/White</material>
  </gazebo>
  <joint name="w57_joint" type="fixed">
    <origin rpy="0 0 0" xyz="7 8 0.5"/>
    <parent link="maze2_link"/>
    <child link="w57_link"/>
  </joint>
  <link name="w57_link">
    <visual>
      <origin rpy="0 0 0" xyz="0 0 0"/>
      <geometry>
        <box size="2 0.05 1"/>
      </geometry>
    </visual>
    <collision>
      <origin rpy="0 0 0" xyz="0 0 0"/>
      <geometry>
        <box size="2 0.05 1"/>
      </geometry>
    </collision>
    <inertial>
      <mass value="1000"/>
      <inertia ixx="1.0" ixy="0.0" ixz="0.0" iyy="1.0" iyz="0.0" izz="1.0"/>
    </inertial>
  </link>
  <gazebo reference="w57_link">
    <static>true</static>
    <material>Gazebo/White</material>
  </gazebo>
  <joint name="w58_joint" type="fixed">
    <origin rpy="0 0 0" xyz="1.5 9 0.5"/>
    <parent link="maze2_link"/>
    <child link="w58_link"/>
  </joint>
  <link name="w58_link">
    <visual>
      <origin rpy="0 0 0" xyz="0 0 0"/>
      <geometry>
        <box size="1 0.05 1"/>
      </geometry>
    </visual>
    <collision>
      <origin rpy="0 0 0" xyz="0 0 0"/>
      <geometry>
        <box size="1 0.05 1"/>
      </geometry>
    </collision>
    <inertial>
      <mass value="1000"/>
      <inertia ixx="1.0" ixy="0.0" ixz="0.0" iyy="1.0" iyz="0.0" izz="1.0"/>
    </inertial>
  </link>
  <gazebo reference="w58_link">
    <static>true</static>
    <material>Gazebo/White</material>
  </gazebo>
  <joint name="w59_joint" type="fixed">
    <origin rpy="0 0 0" xyz="4.5 9 0.5"/>
    <parent link="maze2_link"/>
    <child link="w59_link"/>
  </joint>
  <link name="w59_link">
    <visual>
      <origin rpy="0 0 0" xyz="0 0 0"/>
      <geometry>
        <box size="3 0.05 1"/>
      </geometry>
    </visual>
    <collision>
      <origin rpy="0 0 0" xyz="0 0 0"/>
      <geometry>
        <box size="3 0.05 1"/>
      </geometry>
    </collision>
    <inertial>
      <mass value="1000"/>
      <inertia ixx="1.0" ixy="0.0" ixz="0.0" iyy="1.0" iyz="0.0" izz="1.0"/>
    </inertial>
  </link>
  <gazebo reference="w59_link">
    <static>true</static>
    <material>Gazebo/White</material>
  </gazebo>
  <joint name="w60_joint" type="fixed">
    <origin rpy="0 0 0" xyz="2.5 10 0.5"/>
    <parent link="maze2_link"/>
    <child link="w60_link"/>
  </joint>
  <link name="w60_link">
    <visual>
      <origin rpy="0 0 0" xyz="0 0 0"/>
      <geometry>
        <box size="1 0.05 1"/>
      </geometry>
    </visual>
    <collision>
      <origin rpy="0 0 0" xyz="0 0 0"/>
      <geometry>
        <box size="1 0.05 1"/>
      </geometry>
    </collision>
    <inertial>
      <mass value="1000"/>
      <inertia ixx="1.0" ixy="0.0" ixz="0.0" iyy="1.0" iyz="0.0" izz="1.0"/>
    </inertial>
  </link>
  <gazebo reference="w60_link">
    <static>true</static>
    <material>Gazebo/White</material>
  </gazebo>
  <joint name="w61_joint" type="fixed">
    <origin rpy="0 0 0" xyz="4.5 10 0.5"/>
    <parent link="maze2_link"/>
    <child link="w61_link"/>
  </joint>
  <link name="w61_link">
    <visual>
      <origin rpy="0 0 0" xyz="0 0 0"/>
      <geometry>
        <box size="1 0.05 1"/>
      </geometry>
    </visual>
    <collision>
      <origin rpy="0 0 0" xyz="0 0 0"/>
      <geometry>
        <box size="1 0.05 1"/>
      </geometry>
    </collision>
    <inertial>
      <mass value="1000"/>
      <inertia ixx="1.0" ixy="0.0" ixz="0.0" iyy="1.0" iyz="0.0" izz="1.0"/>
    </inertial>
  </link>
  <gazebo reference="w61_link">
    <static>true</static>
    <material>Gazebo/White</material>
  </gazebo>
  <joint name="w62_joint" type="fixed">
    <origin rpy="0 0 0" xyz="6.5 10 0.5"/>
    <parent link="maze2_link"/>
    <child link="w62_link"/>
  </joint>
  <link name="w62_link">
    <visual>
      <origin rpy="0 0 0" xyz="0 0 0"/>
      <geometry>
        <box size="1 0.05 1"/>
      </geometry>
    </visual>
    <collision>
      <origin rpy="0 0 0" xyz="0 0 0"/>
      <geometry>
        <box size="1 0.05 1"/>
      </geometry>
    </collision>
    <inertial>
      <mass value="1000"/>
      <inertia ixx="1.0" ixy="0.0" ixz="0.0" iyy="1.0" iyz="0.0" izz="1.0"/>
    </inertial>
  </link>
  <gazebo reference="w62_link">
    <static>true</static>
    <material>Gazebo/White</material>
  </gazebo>
  <joint name="w64_joint" type="fixed">
    <origin rpy="0 0 0" xyz="2 11 0.5"/>
    <parent link="maze2_link"/>
    <child link="w64_link"/>
  </joint>
  <link name="w64_link">
    <visual>
      <origin rpy="0 0 0" xyz="0 0 0"/>
      <geometry>
        <box size="2 0.05 1"/>
      </geometry>
    </visual>
    <collision>
      <origin rpy="0 0 0" xyz="0 0 0"/>
      <geometry>
        <box size="2 0.05 1"/>
      </geometry>
    </collision>
    <inertial>
      <mass value="1000"/>
      <inertia ixx="1.0" ixy="0.0" ixz="0.0" iyy="1.0" iyz="0.0" izz="1.0"/>
    </inertial>
  </link>
  <gazebo reference="w64_link">
    <static>true</static>
    <material>Gazebo/White</material>
  </gazebo>
  <joint name="w65_joint" type="fixed">
    <origin rpy="0 0 0" xyz="5.5 11 0.5"/>
    <parent link="maze2_link"/>
    <child link="w65_link"/>
  </joint>
  <link name="w65_link">
    <visual>
      <origin rpy="0 0 0" xyz="0 0 0"/>
      <geometry>
        <box size="1 0.05 1"/>
      </geometry>
    </visual>
    <collision>
      <origin rpy="0 0 0" xyz="0 0 0"/>
      <geometry>
        <box size="1 0.05 1"/>
      </geometry>
    </collision>
    <inertial>
      <mass value="1000"/>
      <inertia ixx="1.0" ixy="0.0" ixz="0.0" iyy="1.0" iyz="0.0" izz="1.0"/>
    </inertial>
  </link>
  <gazebo reference="w65_link">
    <static>true</static>
    <material>Gazebo/White</material>
  </gazebo>
  <joint name="w66_joint" type="fixed">
    <origin rpy="0 0 0" xyz="7.5 11 0.5"/>
    <parent link="maze2_link"/>
    <child link="w66_link"/>
  </joint>
  <link name="w66_link">
    <visual>
      <origin rpy="0 0 0" xyz="0 0 0"/>
      <geometry>
        <box size="1 0.05 1"/>
      </geometry>
    </visual>
    <collision>
      <origin rpy="0 0 0" xyz="0 0 0"/>
      <geometry>
        <box size="1 0.05 1"/>
      </geometry>
    </collision>
    <inertial>
      <mass value="1000"/>
      <inertia ixx="1.0" ixy="0.0" ixz="0.0" iyy="1.0" iyz="0.0" izz="1.0"/>
    </inertial>
  </link>
  <gazebo reference="w66_link">
    <static>true</static>
    <material>Gazebo/White</material>
  </gazebo>
</robot>
